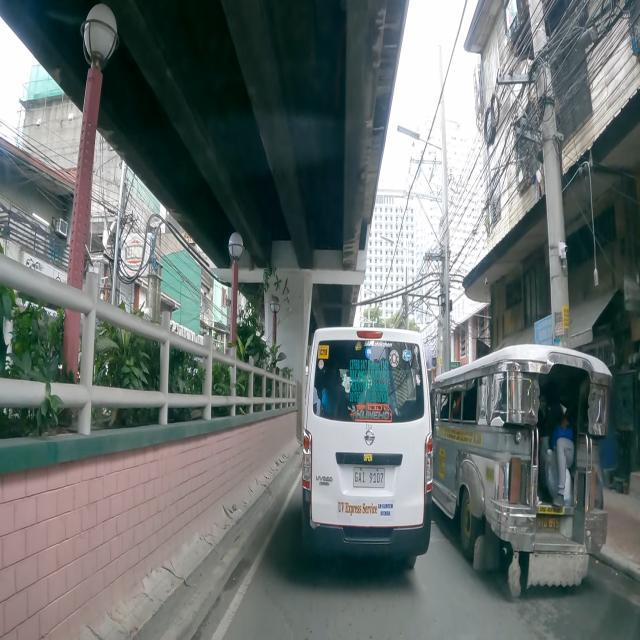car: (301, 328, 433, 570)
jeepney: (433, 344, 611, 596)
